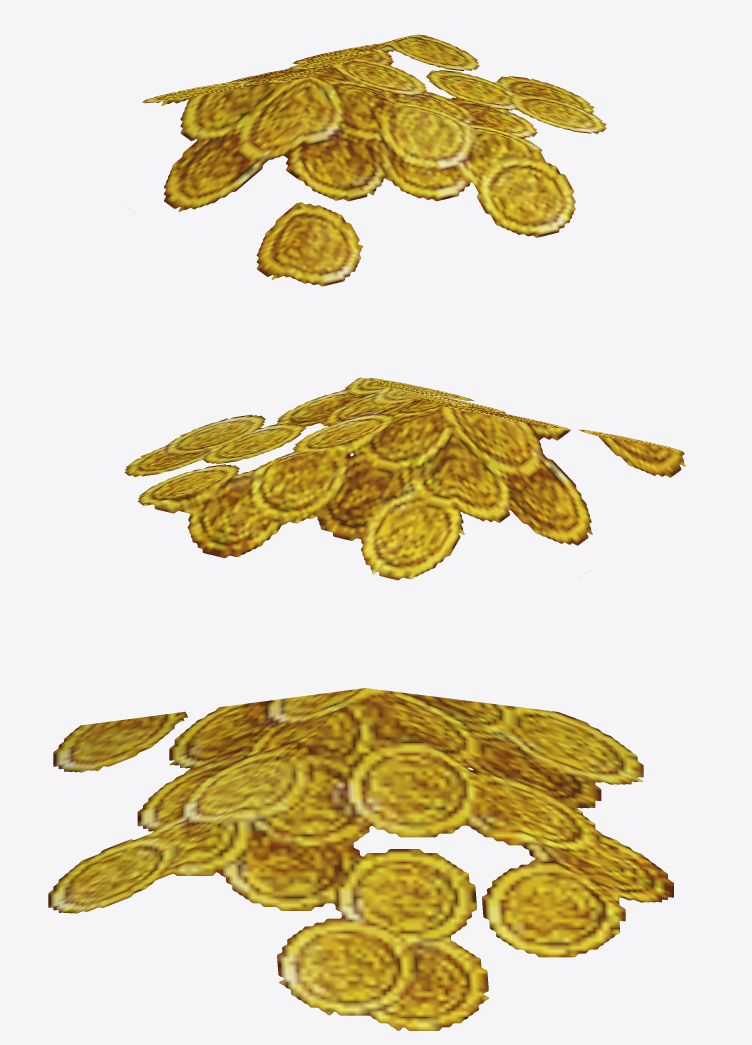
File: gold_small.glb
3 renders of one model, top to bottom at view 1: azimuth 30°, elevation 25°; view 2: azimuth 150°, elevation 25°; view 3: azimuth 270°, elevation 25°, orthographic. The views are drawn at different scales.
Parts seen in each view (by area): view 1: gold_small; view 2: gold_small; view 3: gold_small.
Part boxes in pixels (x1,y1,x2,y2): gold_small: (129, 34, 606, 286); gold_small: (124, 377, 685, 580); gold_small: (48, 688, 673, 1030).
Bounding box in the file's own units: 3.46 × 0.8065 × 3.57.
Materials: 1 (1 with a texture image).
